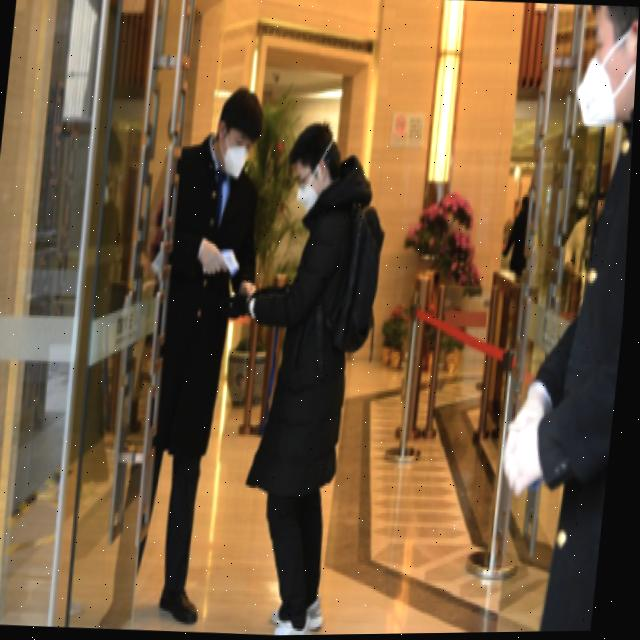Mask: (573, 13, 639, 136), (215, 114, 257, 181), (296, 152, 330, 212)
